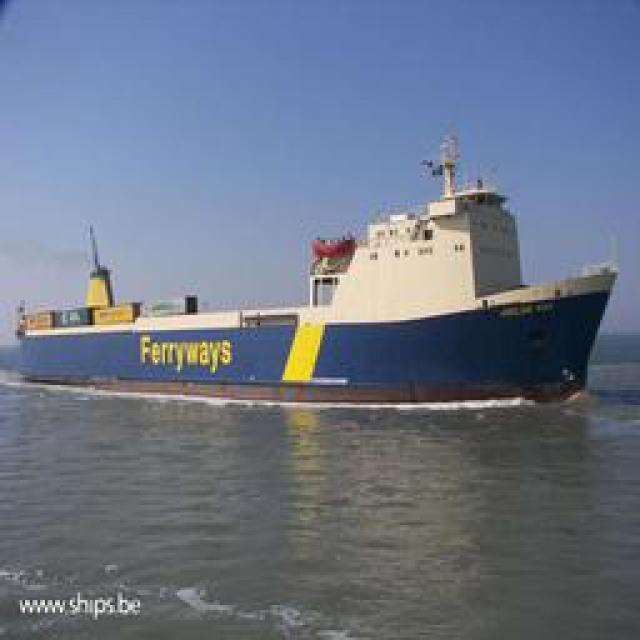Ship: (26, 135, 619, 408)
